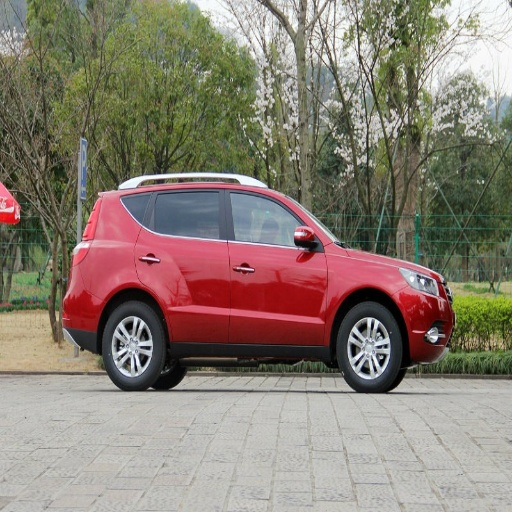back_right_door: (136, 185, 226, 342)
front_right_door: (228, 185, 326, 341)
